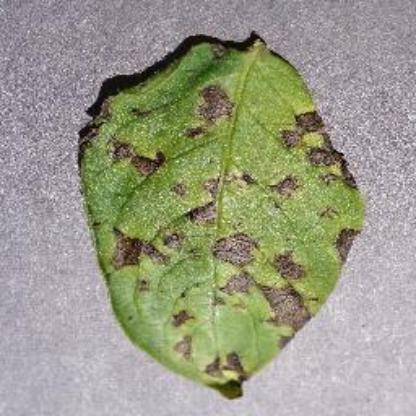Early-Blight: (76, 28, 364, 400)
